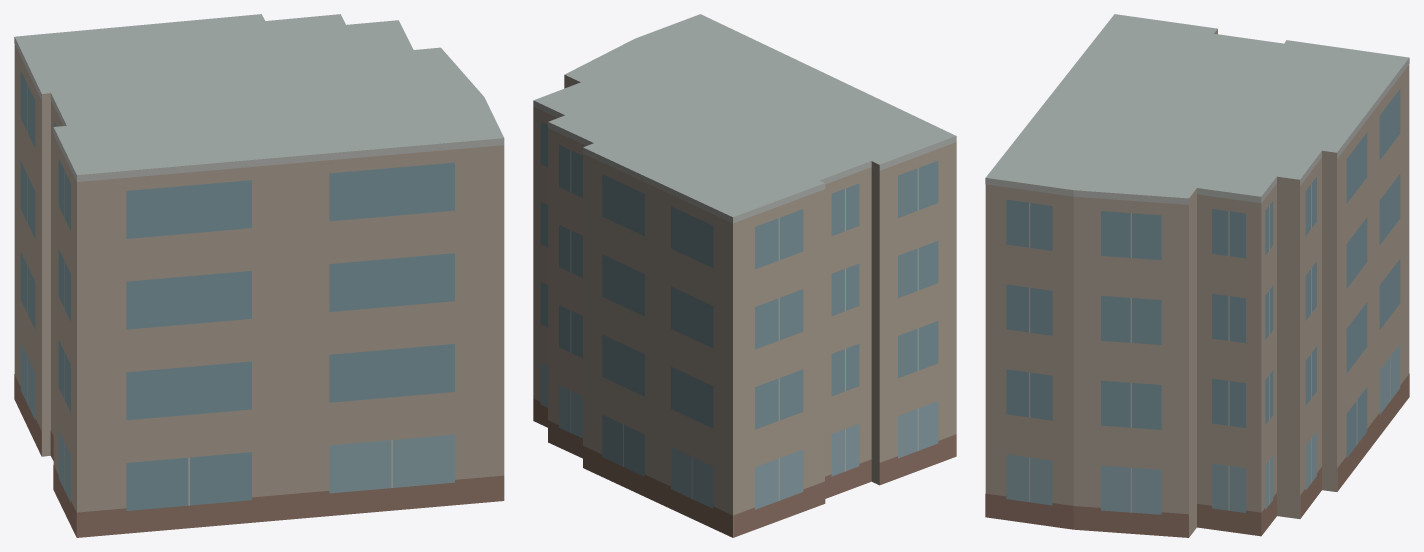
The model's file is survey-upis-32999213.glb.
3 renders of one model, left to right at view 1: azimuth 30°, elevation 25°; view 2: azimuth 150°, elevation 25°; view 3: azimuth 270°, elevation 25°, orthographic. The views are drawn at different scales.
Parts seen in each view (by area): view 1: survey-upis-32999213.tmp; view 2: survey-upis-32999213.tmp; view 3: survey-upis-32999213.tmp.
Part boxes in pixels (bbox=[...]): survey-upis-32999213.tmp: bbox=[14, 14, 504, 537]; survey-upis-32999213.tmp: bbox=[533, 14, 956, 537]; survey-upis-32999213.tmp: bbox=[985, 14, 1409, 537].
Bounding box in the file's own units: 14.93 × 12.8 × 14.5.
